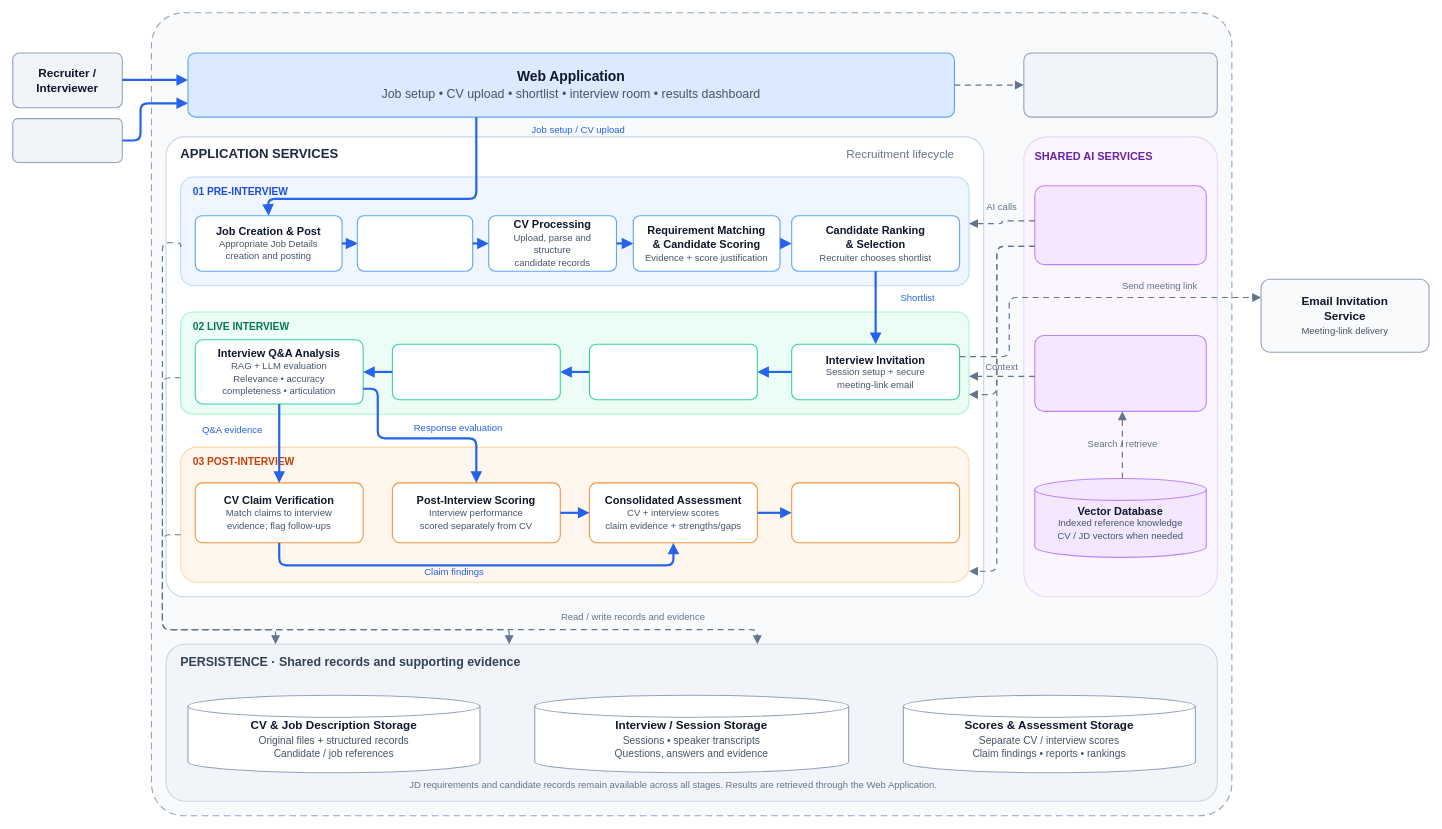
The diagram is 1442 pixels wide and 829 high, and some of its shapes have lost their labels. The box of each missing label's shape, as (x1, y1, x2, y2) in pixels:
Authentication / Access Control Roles • secure room access: (1023, 52, 1217, 117)
Candidate: (12, 118, 122, 163)
Final Ranking / Results Updated candidate ranking Report in recruiter dashboard: (791, 482, 960, 543)
Live Speech-to-Text Speaker + timestamps Live and saved transcript: (391, 343, 560, 400)
LLM / AI Processing JD generation • matching Q&A and assessment: (1034, 185, 1207, 265)
RAG / Knowledge Retrieval Relevant reference context for response evaluation: (1034, 335, 1207, 412)
Receive CVs Interested candidate job CVs.: (356, 215, 473, 271)
Video Interview Real-time audio / video Signaling + media transport: (589, 343, 758, 400)
